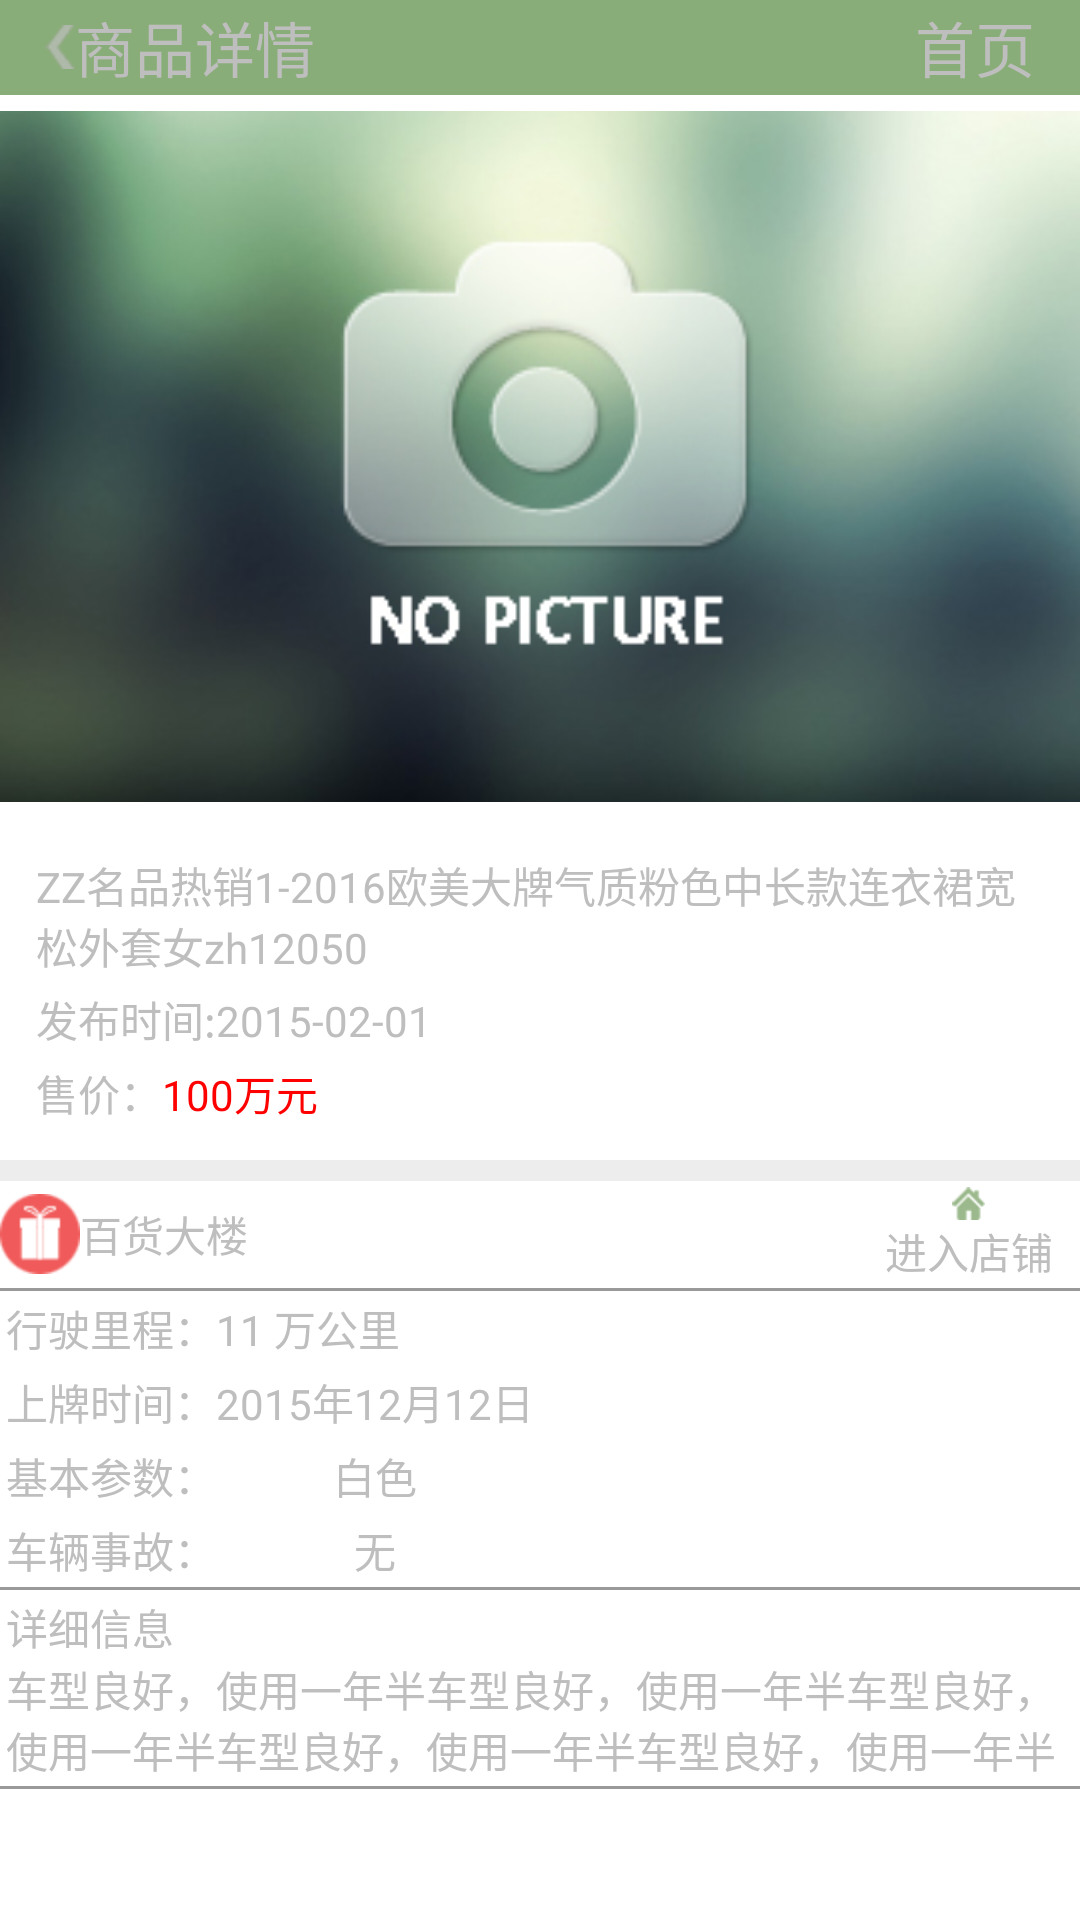

Icons on this 1080px×1920px Android screen, each with its box as BBox(x1, y1, x2, y2):
arrow left: BBox(47, 25, 74, 69)
